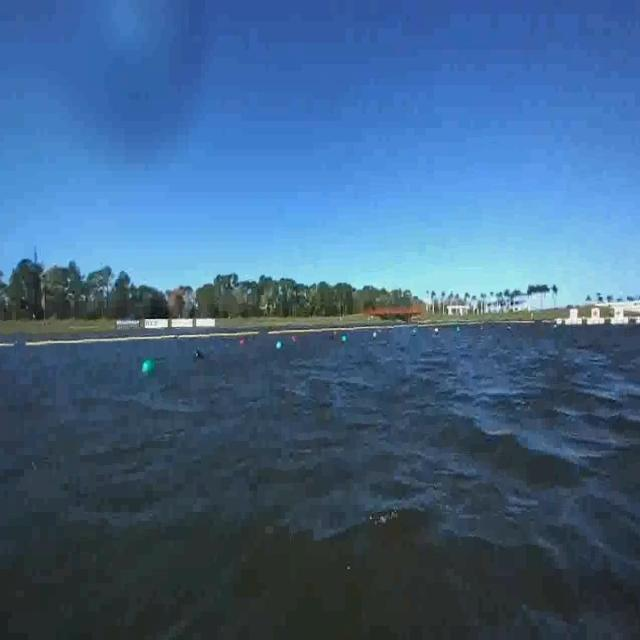green-buoy: (143, 358, 155, 374), (277, 341, 284, 352)
